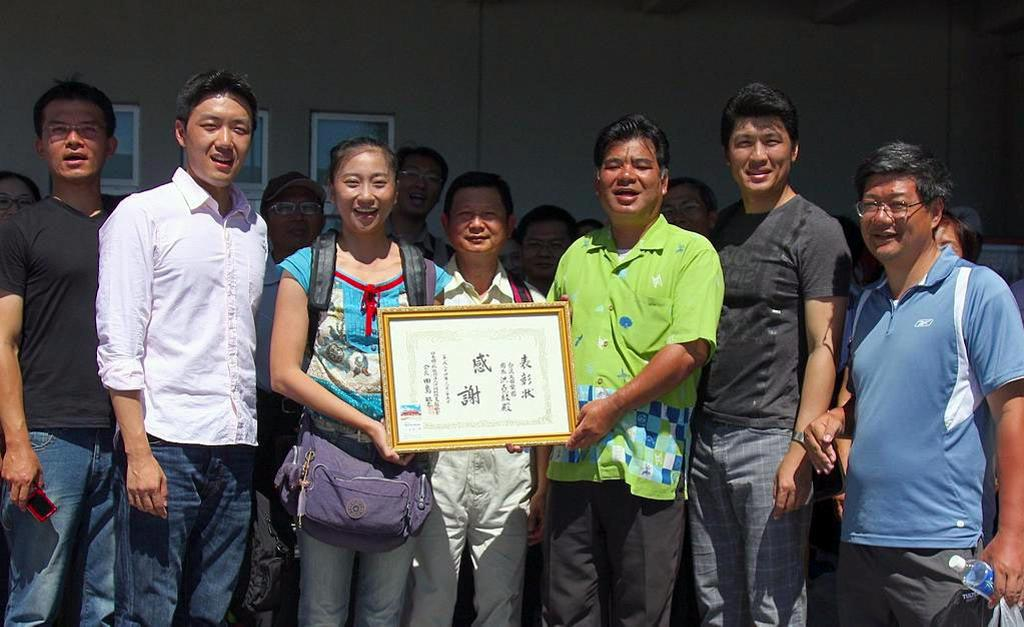face: (860, 177, 932, 257), (187, 101, 252, 186), (46, 106, 107, 177), (731, 121, 792, 190), (600, 144, 660, 213), (337, 160, 396, 230), (450, 191, 506, 253), (268, 187, 322, 246), (399, 159, 441, 216), (662, 188, 707, 240), (923, 218, 963, 274), (1, 182, 36, 237), (524, 228, 563, 275), (494, 240, 527, 288)
